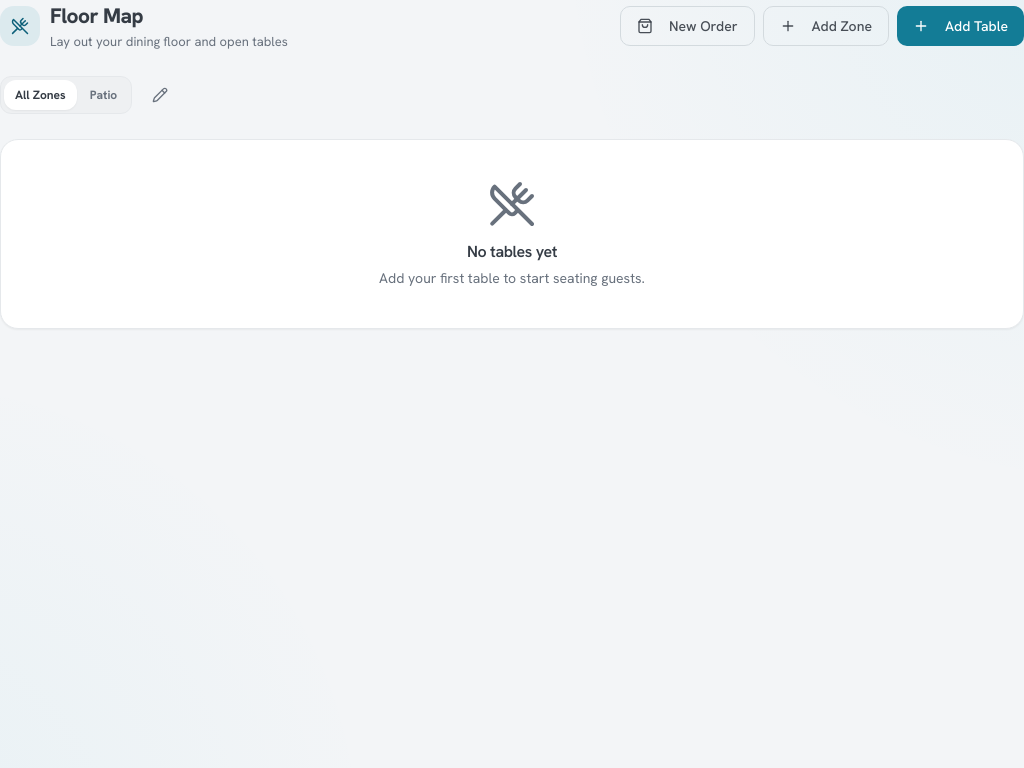
FloorMap form input labelling a11y (ISSUE-226) › names the add-zone form control from its visible caption
Step 1. Click the button "Add Zone" → (826,26), box [762,6,889,46]
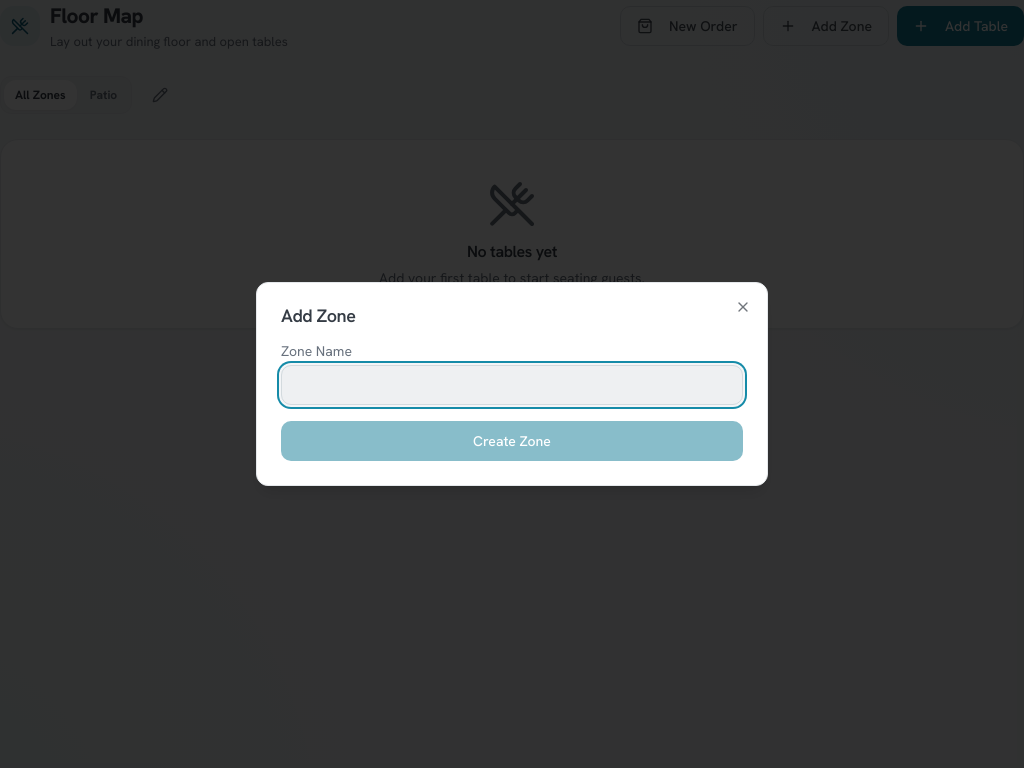
Result: the field labelled "Zone Name" is shown at [281,365,743,405]
